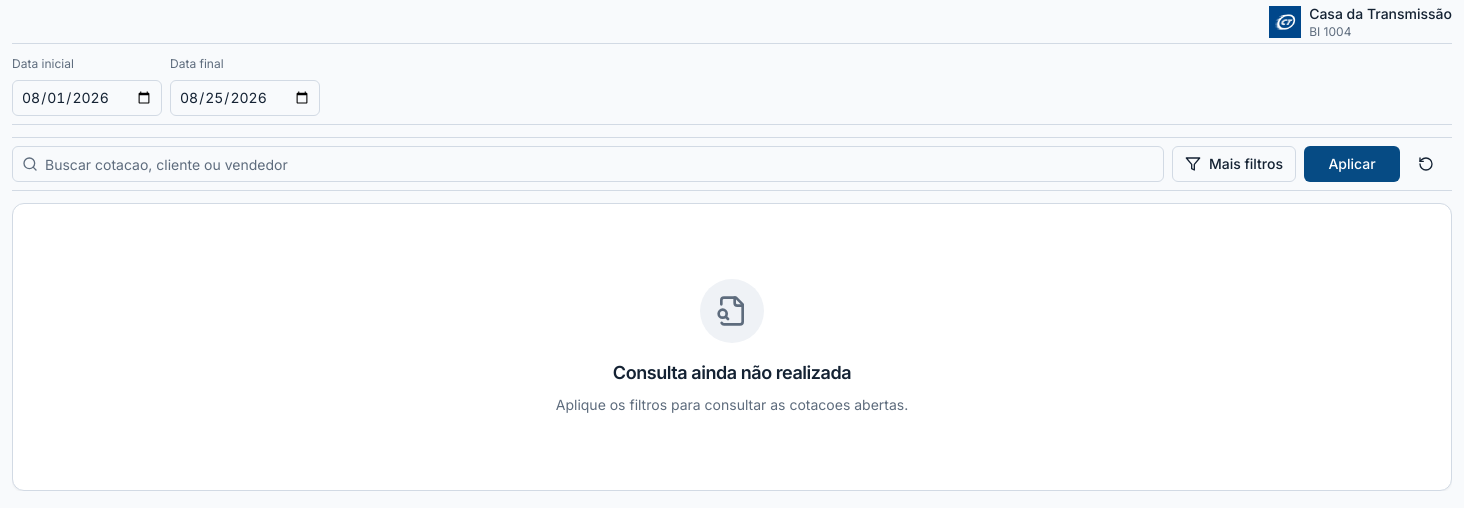
open quotes page › shows the standard content loader while the initial query is pending
This screenshot has width=1464, height=508.
Click the button "Aplicar".
click(1352, 164)  # box [1304, 146, 1400, 182]
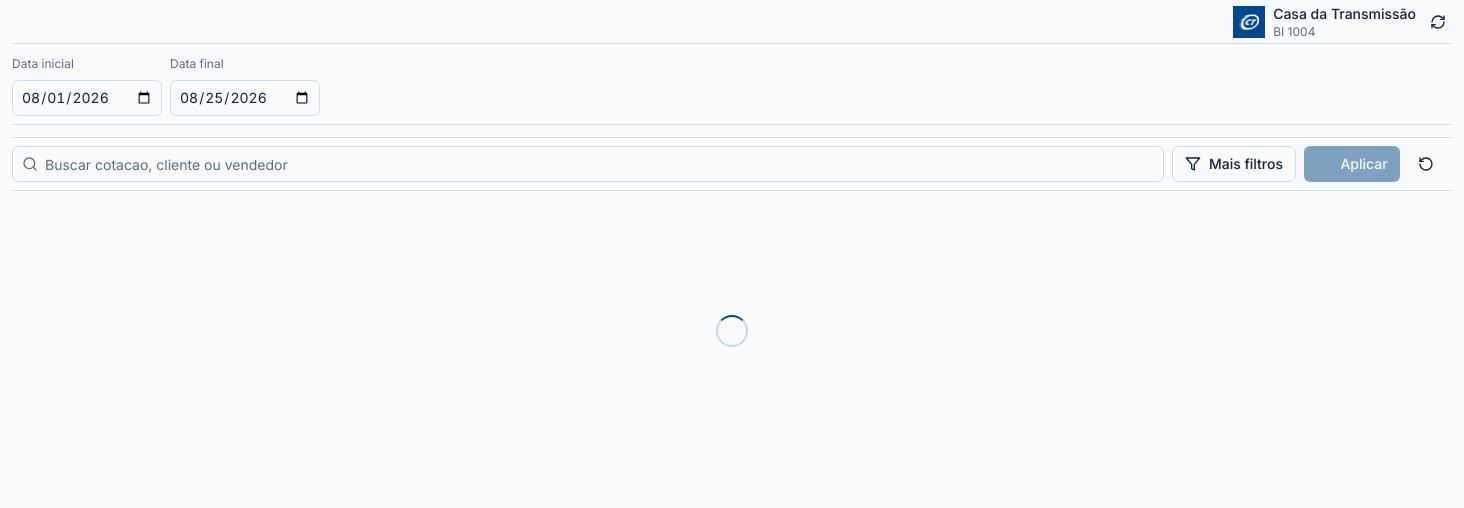
expect the message named "Carregando cotações abertas" is shown: met, box [12, 203, 1452, 459]
expect the 2nd element with test id "loading-indicator" is shown: met, box [716, 315, 748, 347]
